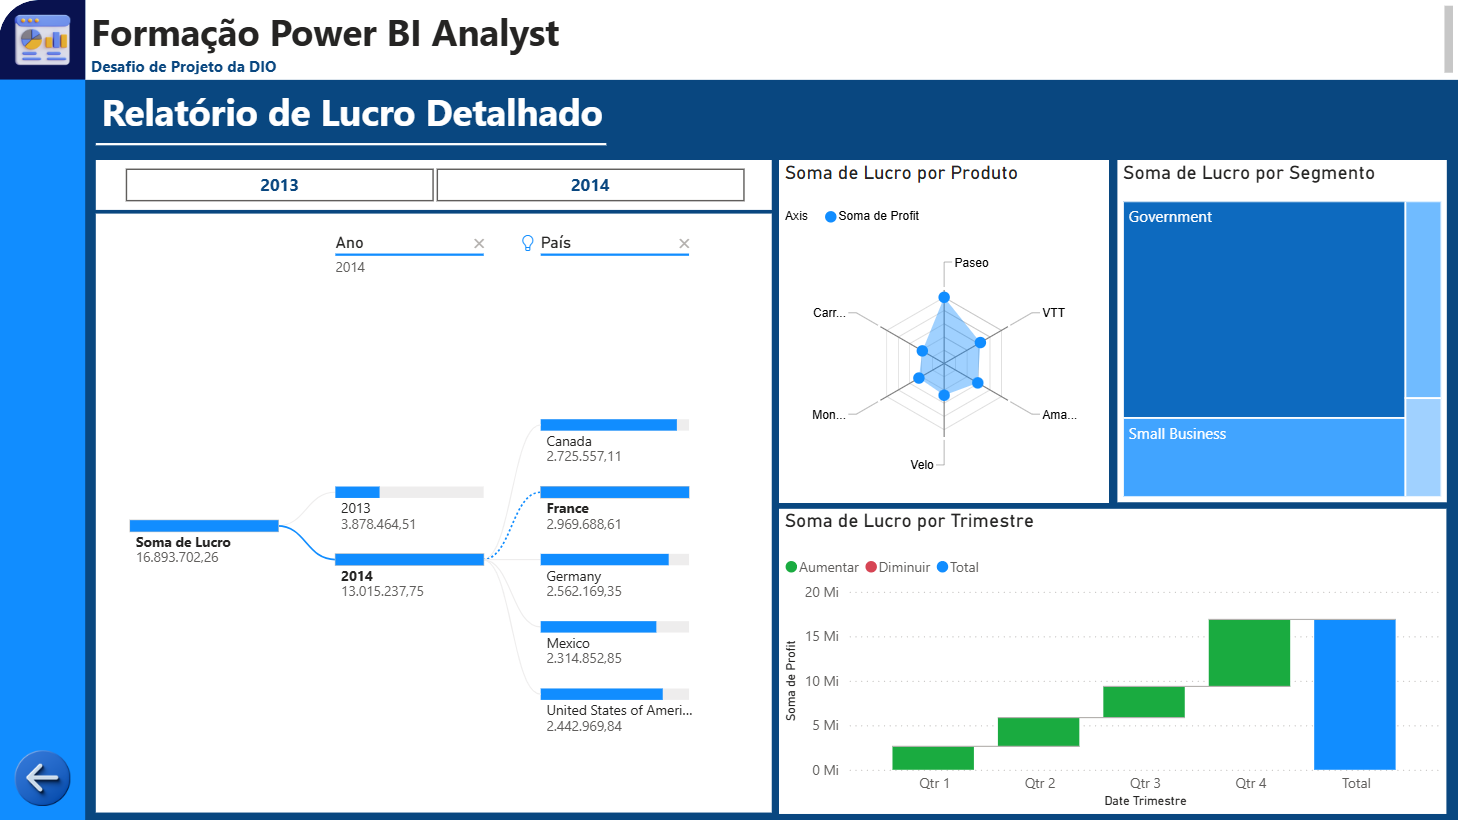

Layout of this report page (visuals, bound fields, positions):
{"tool":"powerbi","page":{"name":"Lucro Detalhado","canvas":[1280,720],"ordinal":1},"visuals":[{"type":"image","title":"Imagem Seta Esquerda","box":[0,657.5,76.2,48.8],"z":500,"group":"g2"},{"type":"group","id":"g1","title":"Grupo Layout","box":[0,0,1280,719.8],"z":1000},{"type":"shape","title":"Forma fundo azul escuro","box":[0,0,1280,719.8],"z":1000,"group":"g1"},{"type":"group","id":"g2","title":"Grupo Próxima Página","box":[0,657.5,76.2,48.8],"z":1500},{"type":"shape","title":"Forma lateral esquerda azul claro","box":[0,0,75.9,719.8],"z":2000,"group":"g1"},{"type":"treemap","title":"Soma de Lucro por Segmento","fields":{"Group":["financials.Segment"],"Values":["Sum(financials.Profit)"]},"box":[980,140,289,300],"z":2000},{"type":"shape","title":"Fundo Ícone","box":[0,0,76,70],"z":3000,"group":"g1"},{"type":"RadarChart1446119667547","title":"Soma de Lucro por Produto","fields":{"Y":["Sum(financials.Profit)"],"Category":["financials.Product"]},"box":[683.8,140,289,300],"z":3000},{"type":"image","title":"Ícone Dashboard","box":[0,11,76,48],"z":4000,"group":"g1"},{"type":"waterfallChart","title":"Soma de Lucro por Trimestre","fields":{"Category":["financials.Date.Variation.Hierarquia de datas.Trimestre"],"Y":["Sum(financials.Profit)"]},"box":[683.8,446.2,585,267.5],"z":4000},{"type":"textbox","title":"Caixa de texto Formação","box":[75.9,0,1204.1,70],"z":5000,"group":"g1"},{"type":"slicer","fields":{"Values":["financials.Date.Variation.Hierarquia de datas.Ano"]},"box":[85,140,592.5,43.8],"z":5000},{"type":"shape","title":"Forma traço azul","box":[85,70,447.5,112.5],"z":6000,"group":"g1"},{"type":"decompositionTreeVisual","fields":{"Analyze":["Sum(financials.Profit)"],"ExplainBy":["financials.Date.Variation.Hierarquia de datas.Ano","financials.Country"]},"box":[85,187.5,592.5,525],"z":6000},{"type":"textbox","title":"Caixa de texto Relatório de Vendas","box":[85,70,483.8,56.2],"z":7000,"group":"g1"}]}

Visuals, with their boxes on the page's 1280x720 design canvas (x1, y1, x2, y2). These are canvas units, not pixel positions in the 1458x820 screenshot, which may show the page scaled, cropped or inside an application window:
"Imagem Seta Esquerda" image: detection(0, 658, 76, 706)
"Grupo Layout" group: detection(0, 0, 1280, 720)
"Forma fundo azul escuro" shape: detection(0, 0, 1280, 720)
"Grupo Próxima Página" group: detection(0, 658, 76, 706)
"Forma lateral esquerda azul claro" shape: detection(0, 0, 76, 720)
"Soma de Lucro por Segmento" treemap: detection(980, 140, 1269, 440)
"Fundo Ícone" shape: detection(0, 0, 76, 70)
"Soma de Lucro por Produto" RadarChart1446119667547: detection(684, 140, 973, 440)
"Ícone Dashboard" image: detection(0, 11, 76, 59)
"Soma de Lucro por Trimestre" waterfallChart: detection(684, 446, 1269, 714)
"Caixa de texto Formação" textbox: detection(76, 0, 1280, 70)
slicer - financials.Date.Variation.Hierarquia de datas.Ano: detection(85, 140, 678, 184)
"Forma traço azul" shape: detection(85, 70, 532, 182)
decompositionTreeVisual - Sum(financials.Profit) x financials.Date.Variation.Hierarquia de datas.Ano: detection(85, 188, 678, 712)
"Caixa de texto Relatório de Vendas" textbox: detection(85, 70, 569, 126)
